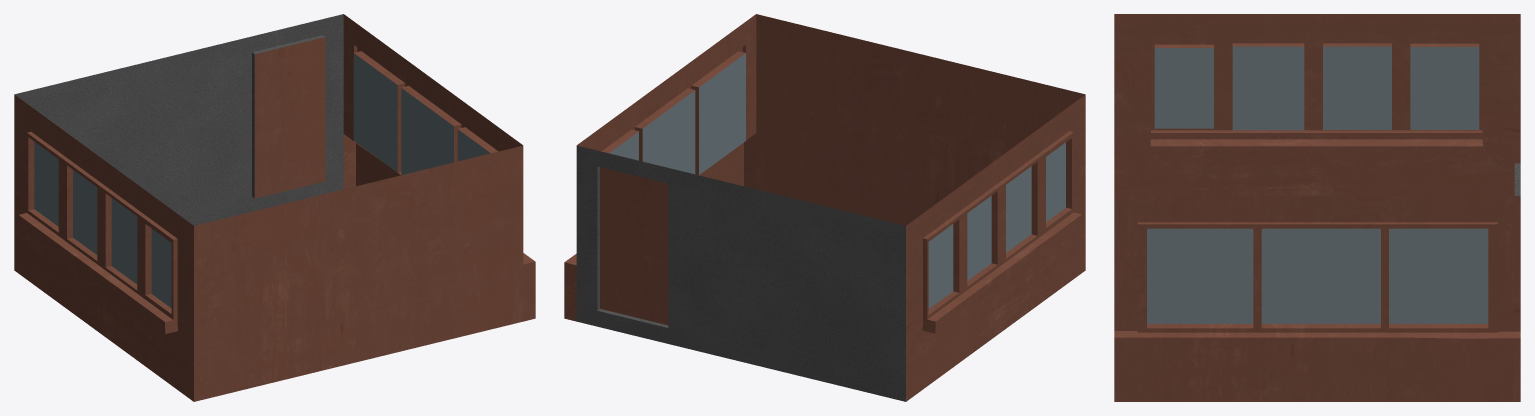
File: hdb right.fbx
3 views of the same model, side by side, from view 1: azimuth 30°, elevation 25°; view 2: azimuth 150°, elevation 25°; view 3: azimuth 270°, elevation 25° (orthographic). The views are drawn at different scales.
Parts seen in each view (by area): view 1: pCube28; view 2: pCube28; view 3: pCube28.
Part boxes in pixels (left/top/right/bottom): pCube28: left=14, top=14, right=535, bottom=401; pCube28: left=564, top=14, right=1085, bottom=401; pCube28: left=1114, top=14, right=1520, bottom=401.
Bounding box in the file's own units: 841 × 399 × 738.
Materials: 1 (1 with a texture image).
